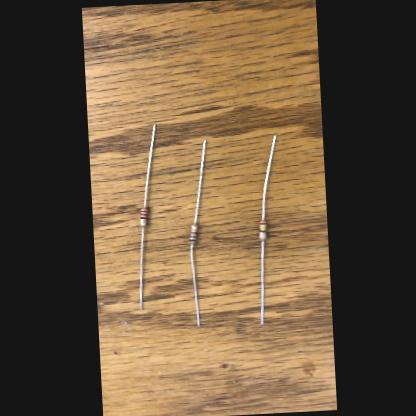resistor: (256, 219, 266, 240), (186, 223, 196, 243), (138, 207, 147, 226)
wire: (256, 134, 278, 218), (187, 139, 208, 222), (137, 124, 158, 206), (255, 240, 267, 322), (134, 226, 146, 308), (188, 243, 198, 325)
